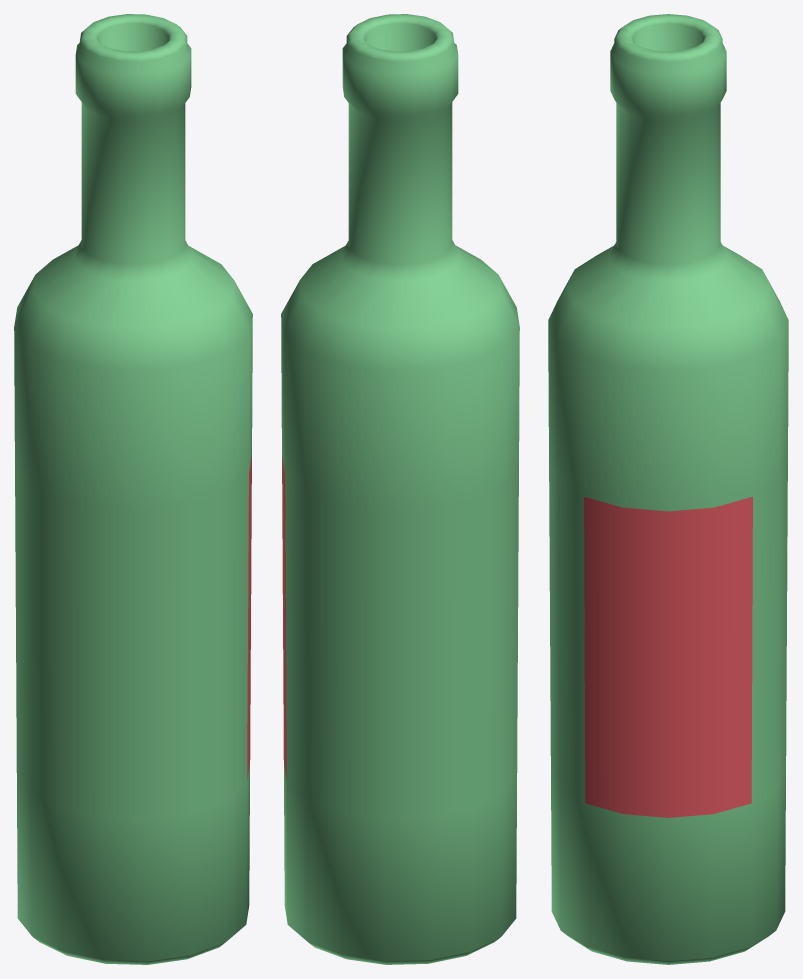
The model's file is bottiglia.fbx.
The picture shows the model from 3 angles, left to right: view 1: azimuth 30°, elevation 25°; view 2: azimuth 150°, elevation 25°; view 3: azimuth 270°, elevation 25°; orthographic projection.
Parts seen in each view (by area): view 1: Cylinder.001; view 2: Cylinder.001; view 3: Cylinder.001.
Part boxes in pixels (x1,y1,x2,y2): Cylinder.001: [14, 14, 252, 964]; Cylinder.001: [281, 14, 519, 964]; Cylinder.001: [548, 14, 788, 964].
Size of the model in its own units: 19.12 by 77.54 by 19.12.
